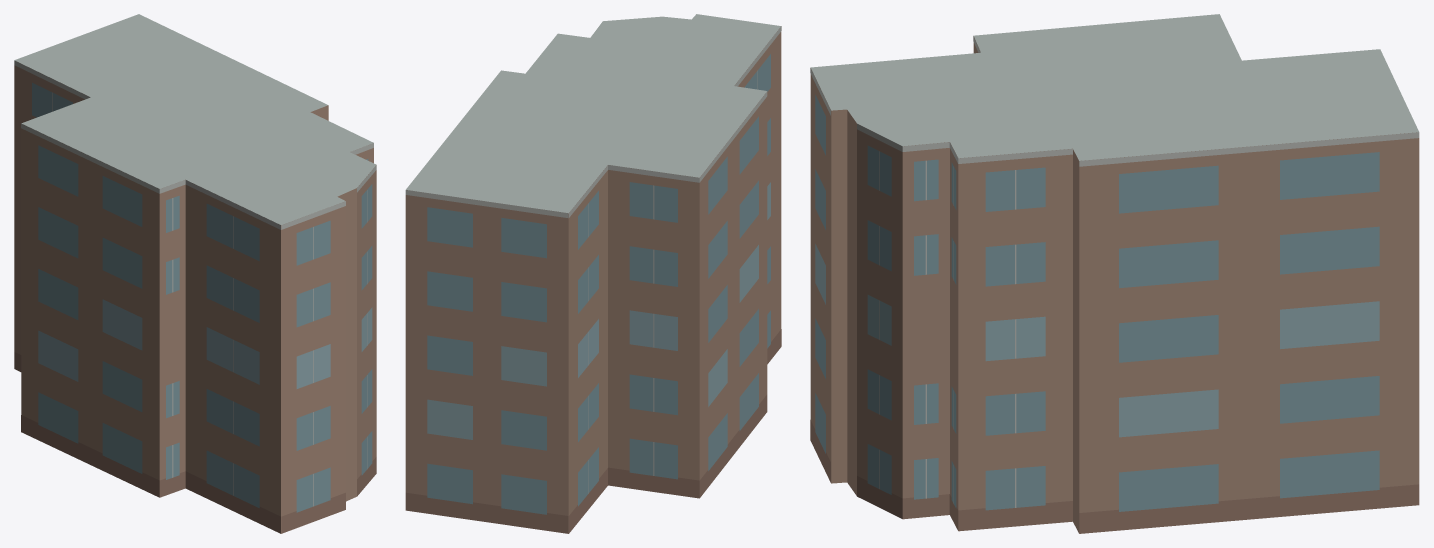
File: survey-upis-32464305.glb
3 renders of one model, left to right at view 1: azimuth 30°, elevation 25°; view 2: azimuth 150°, elevation 25°; view 3: azimuth 270°, elevation 25°, orthographic. The views are drawn at different scales.
Parts seen in each view (by area): view 1: survey-upis-32464305.tmp; view 2: survey-upis-32464305.tmp; view 3: survey-upis-32464305.tmp.
Part boxes in pixels (x1=…): survey-upis-32464305.tmp: x1=14, y1=14, x2=376, y2=533; survey-upis-32464305.tmp: x1=405, y1=14, x2=781, y2=533; survey-upis-32464305.tmp: x1=810, y1=14, x2=1419, y2=533.
Size of the model in its own units: 13.1 by 15.5 by 22.94.
